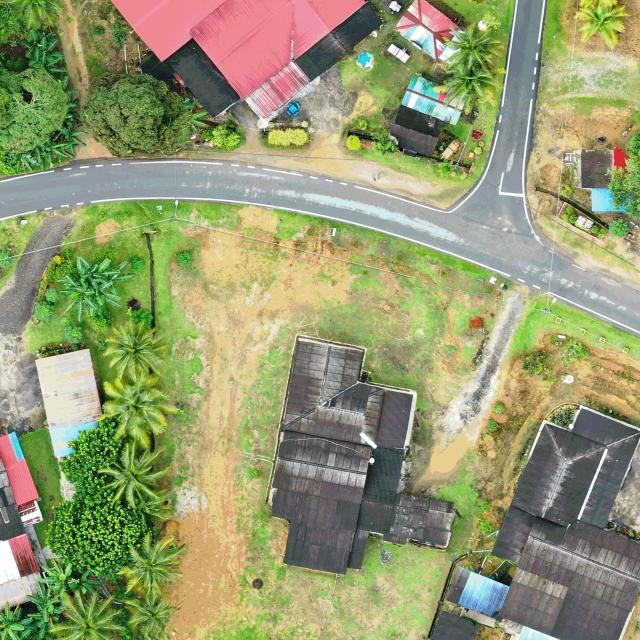Tree: (81, 69, 191, 159), (46, 494, 146, 582), (0, 66, 72, 156), (100, 369, 178, 443), (58, 416, 127, 498), (100, 434, 172, 510), (58, 256, 135, 322), (117, 531, 188, 600), (103, 319, 168, 380), (55, 588, 122, 640), (435, 64, 499, 116), (442, 21, 506, 72), (126, 589, 181, 638), (575, 0, 629, 47), (2, 0, 67, 28), (0, 600, 34, 640), (521, 348, 555, 382), (561, 337, 590, 364)
